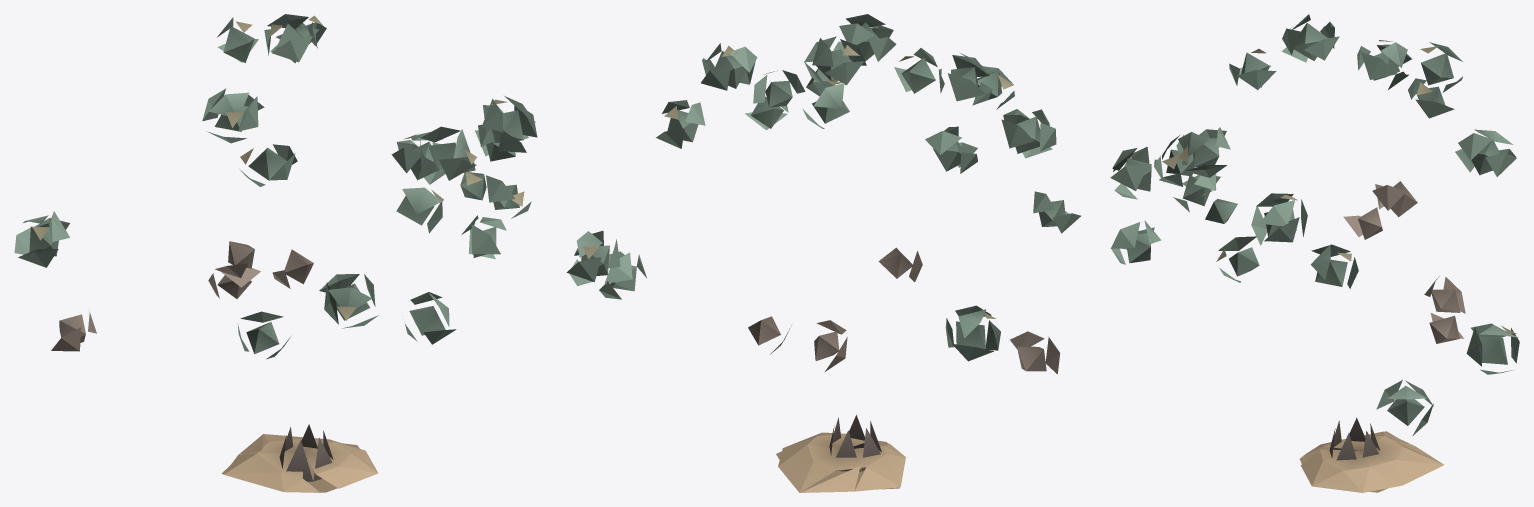
Rendered from creosote.lod.glb.
3 renders of one model, left to right at view 1: azimuth 30°, elevation 25°; view 2: azimuth 150°, elevation 25°; view 3: azimuth 270°, elevation 25°, orthographic. The views are drawn at different scales.
Parts seen in each view (by area): view 1: creosote; view 2: creosote; view 3: creosote.
Boxes of the visible parts, left/top/right/bottom form: creosote: left=14, top=14, right=537, bottom=492; creosote: left=566, top=14, right=1080, bottom=492; creosote: left=1110, top=14, right=1519, bottom=492.
Size of the model in its own units: 2.88 by 2.65 by 2.33.
